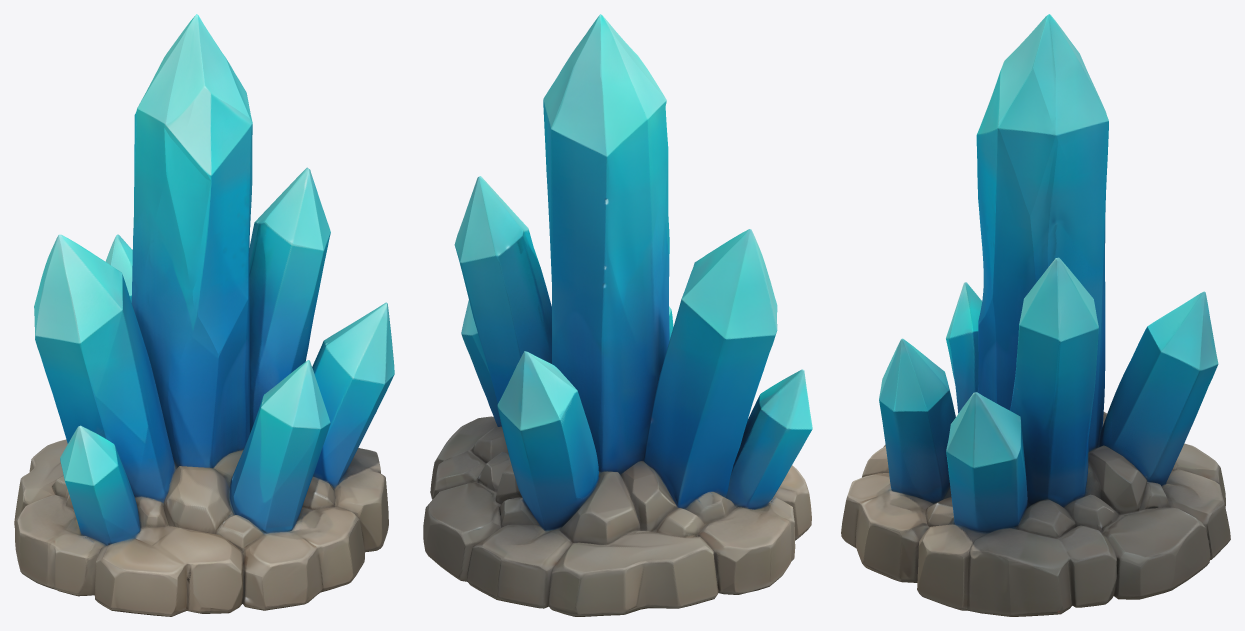
Rendered from crystal_cluster.glb.
The picture shows the model from 3 angles, left to right: view 1: azimuth 30°, elevation 25°; view 2: azimuth 150°, elevation 25°; view 3: azimuth 270°, elevation 25°; orthographic projection.
Visible parts, largest first — view 1: model; view 2: model; view 3: model.
Boxes of the visible parts, box(x1,y1,x2,y2) form: model: box(14, 14, 394, 616); model: box(423, 14, 812, 616); model: box(841, 14, 1230, 616).
Size of the model in its own units: 1.28 by 1.88 by 1.26.
1 material, 1 textured.
